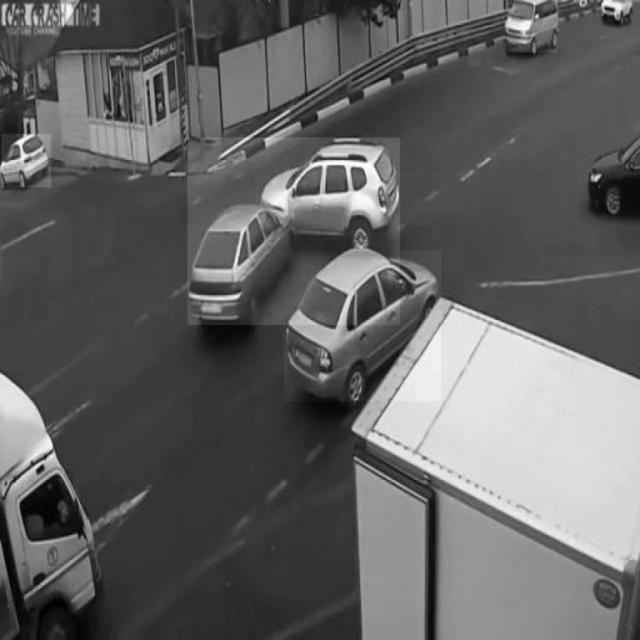accident: (188, 138, 400, 325)
vehicle: (284, 250, 441, 401), (2, 134, 52, 188), (509, 3, 559, 53)
